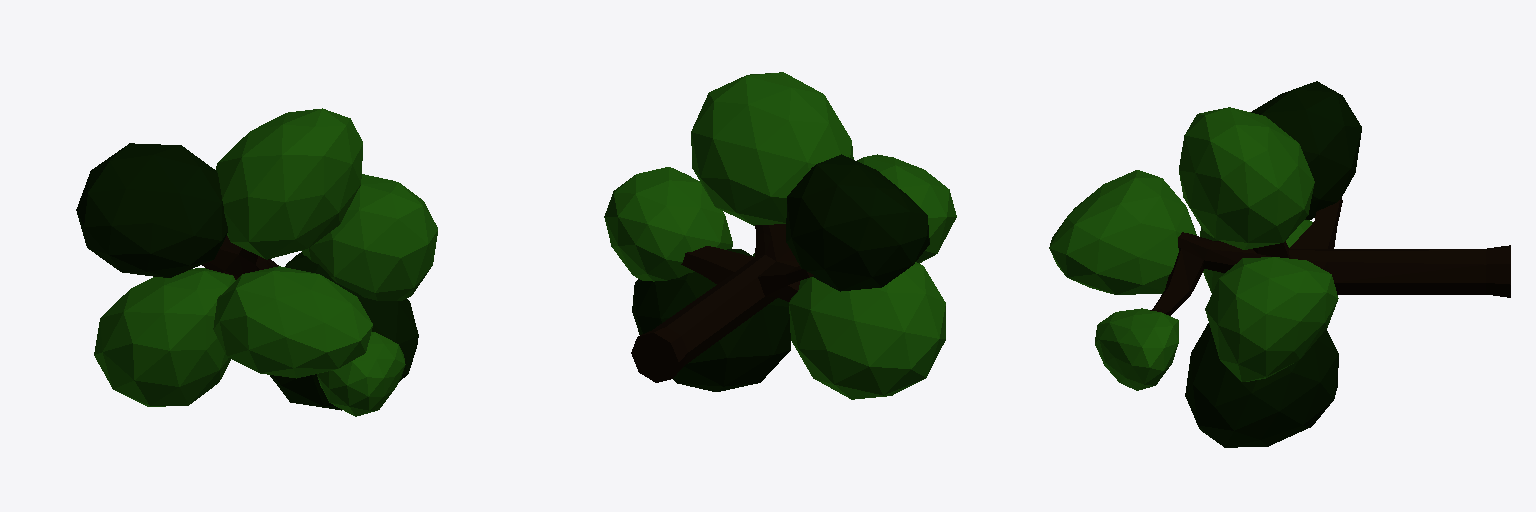
Rendered from tree2.obj.
3 views of the same model, side by side, from view 1: azimuth 30°, elevation 25°; view 2: azimuth 150°, elevation 25°; view 3: azimuth 270°, elevation 25° (orthographic).
Parts seen in each view (by area): view 1: Cylinder.003_Cylinder.000; view 2: Cylinder.003_Cylinder.000; view 3: Cylinder.003_Cylinder.000.
Part boxes in pixels (x1,y1,x2,y2): Cylinder.003_Cylinder.000: (76,108,437,416); Cylinder.003_Cylinder.000: (604,72,956,399); Cylinder.003_Cylinder.000: (1049,81,1510,447).
Size of the model in its own units: 12.97 by 11.44 by 15.65.